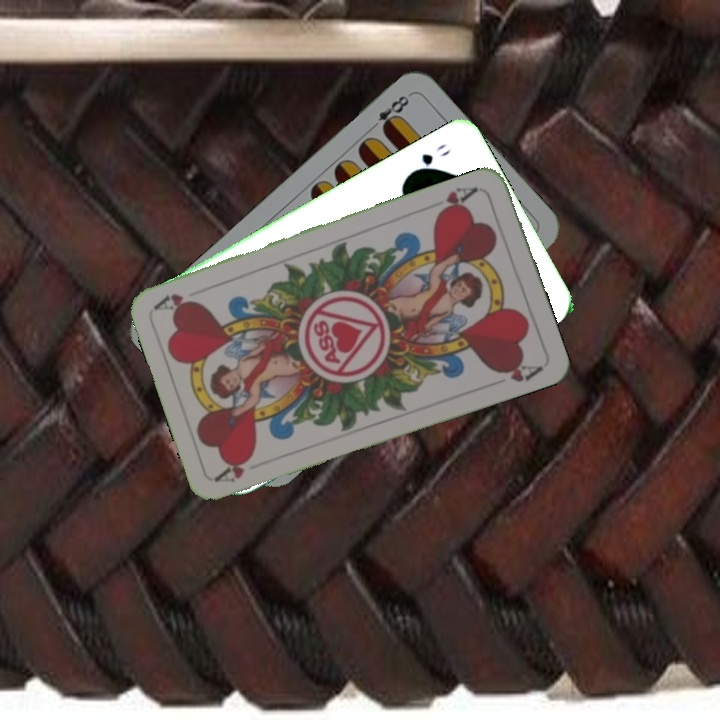E8: (365, 91, 412, 135)
GO: (406, 139, 454, 178)
HA: (432, 182, 481, 219), (212, 451, 256, 485)
